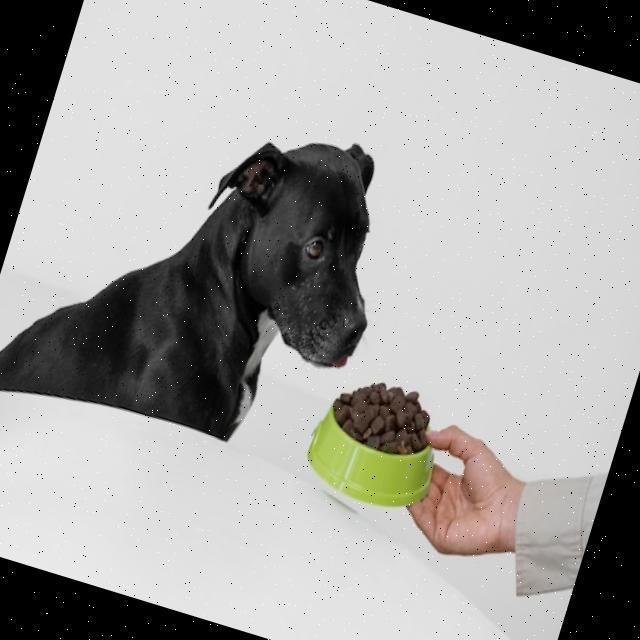Dog: (0, 54, 418, 495)
